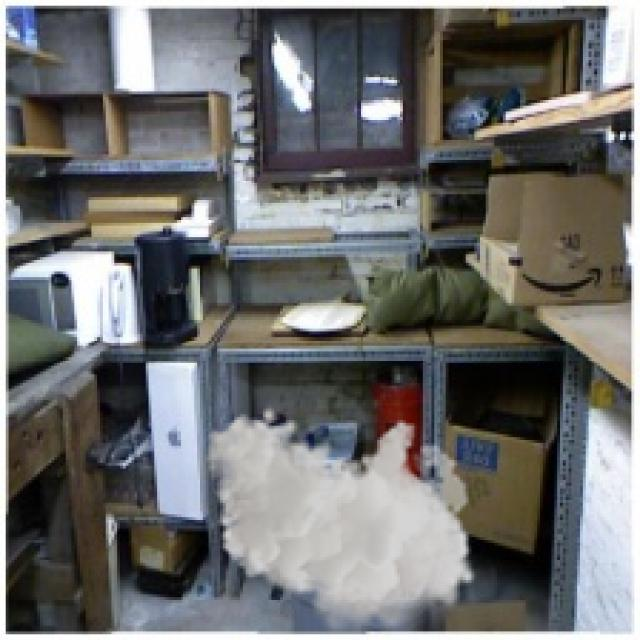smoke: (206, 406, 480, 637)
